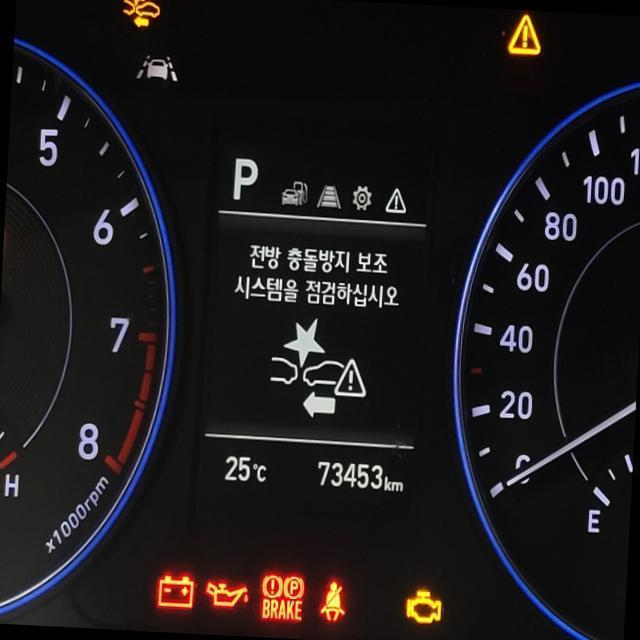Central Warning lamp: (504, 12, 542, 54)
LaneCenteringOff: (135, 53, 179, 82)
